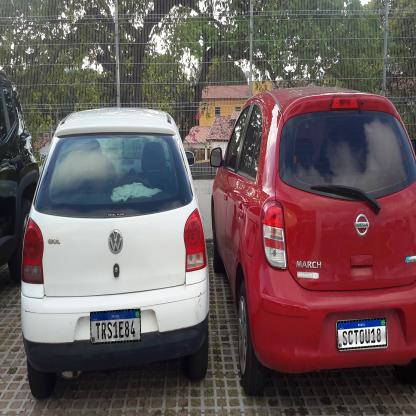PlacaM: (90, 309, 141, 344), (337, 318, 387, 350)
